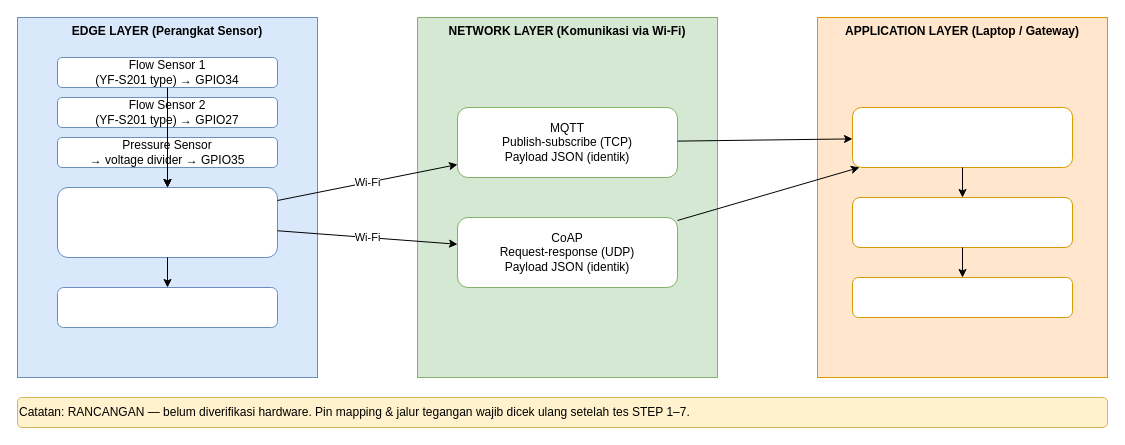
Some shapes in this 1125 by 445 pixel diagram are drawn without their labels. Here are the shapes that lost their labels. From the top down, the centre of each, then its label:
At [962,137]: "Broker MQTT + CoAP Server (berjalan di laptop)".
At [167,222]: "ESP32 (Node Sensor) Wi-Fi 802.11 b/g/n Baca sensor + susun payload JSON".
At [962,222]: "Dashboard Monitoring (platform belum difinalisasi)".
At [167,307]: "INA219 (ukur energi) SDA→GPIO21, SCL→GPIO22 (I2C)".
At [962,297]: "Notifikasi / Status Kebocoran".
